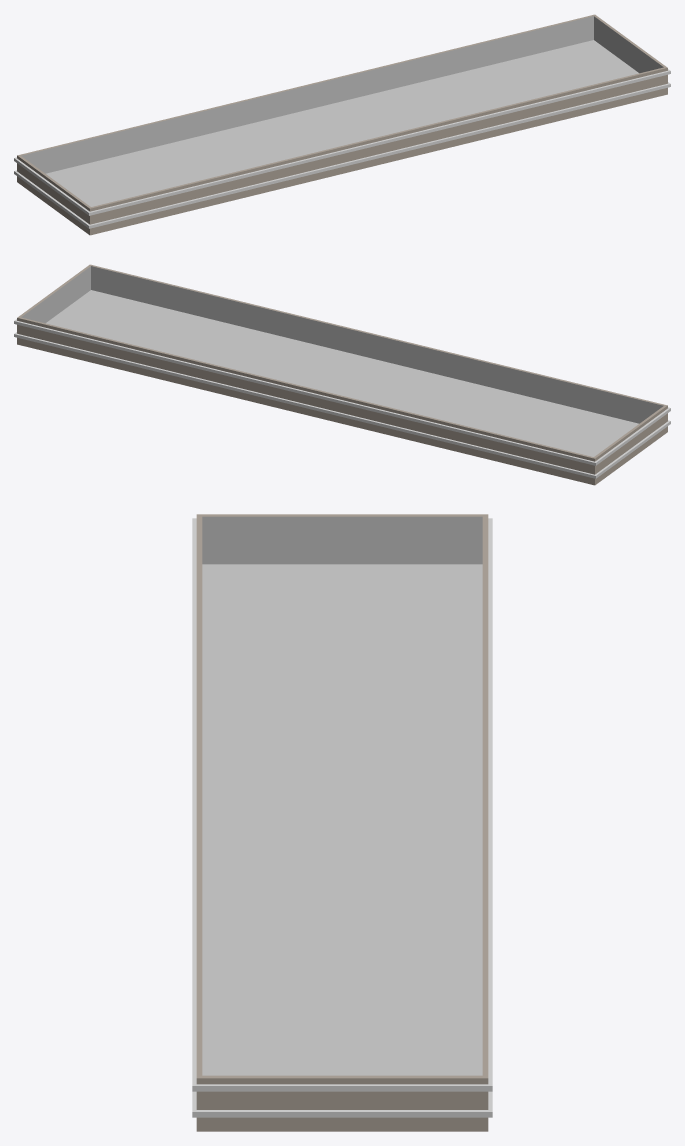
The model's file is props25.fbx.
3 renders of one model, top to bottom at view 1: azimuth 30°, elevation 25°; view 2: azimuth 150°, elevation 25°; view 3: azimuth 270°, elevation 25°, orthographic. The views are drawn at different scales.
Parts seen in each view (by area): view 1: Boole; view 2: Boole; view 3: Boole.
Boxes of the visible parts, <box> form: Boole: <box>14,14,670,235</box>; Boole: <box>14,264,670,485</box>; Boole: <box>192,514,492,1131</box>.
Size of the model in its own units: 1528 by 67.12 by 342.
